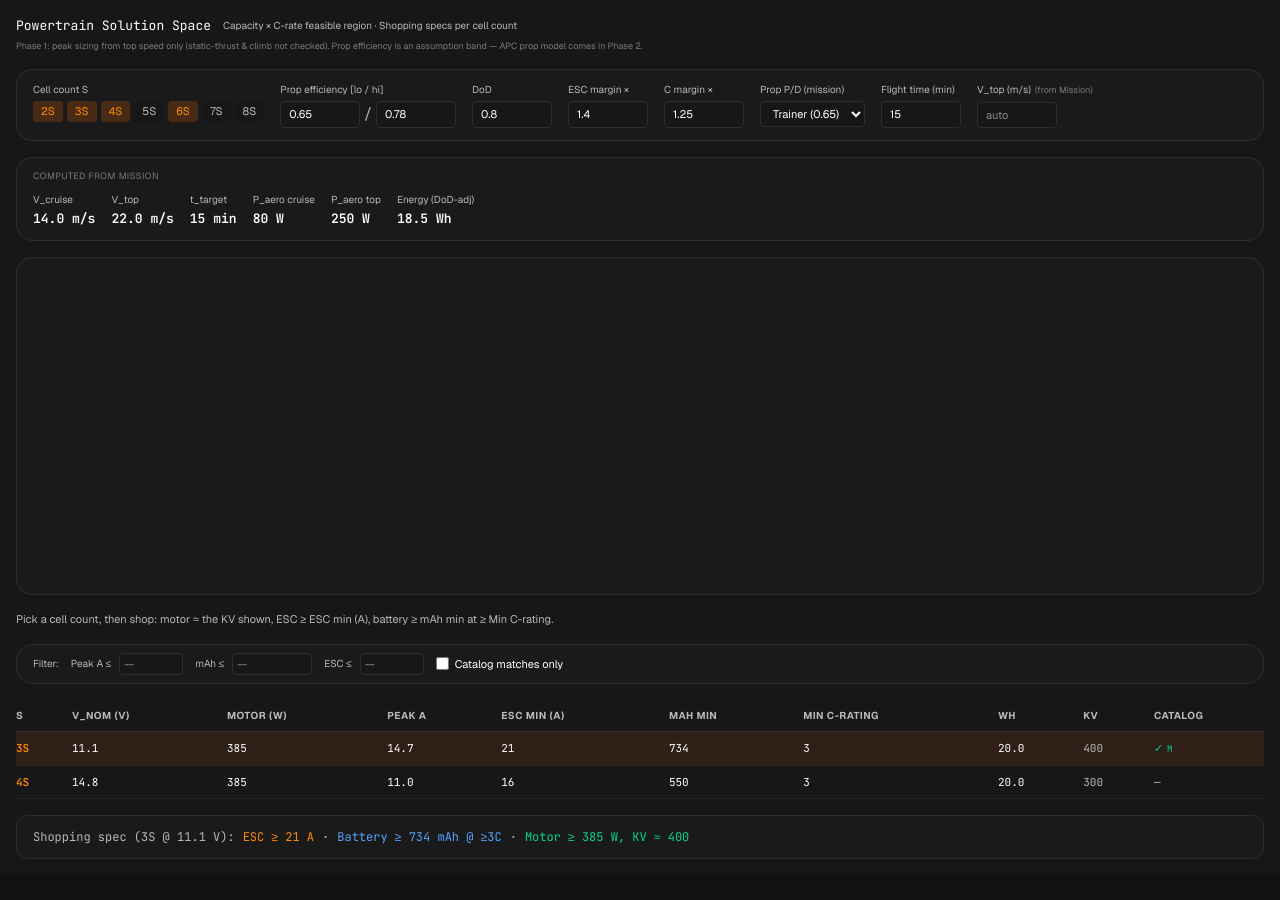
Scenario: PowertrainTab › catalog-only toggle keeps rows with at least one match
Click the checkbox with test id "filter-catalog-only". click: (442, 664)
box: 436,657 -> 449,670
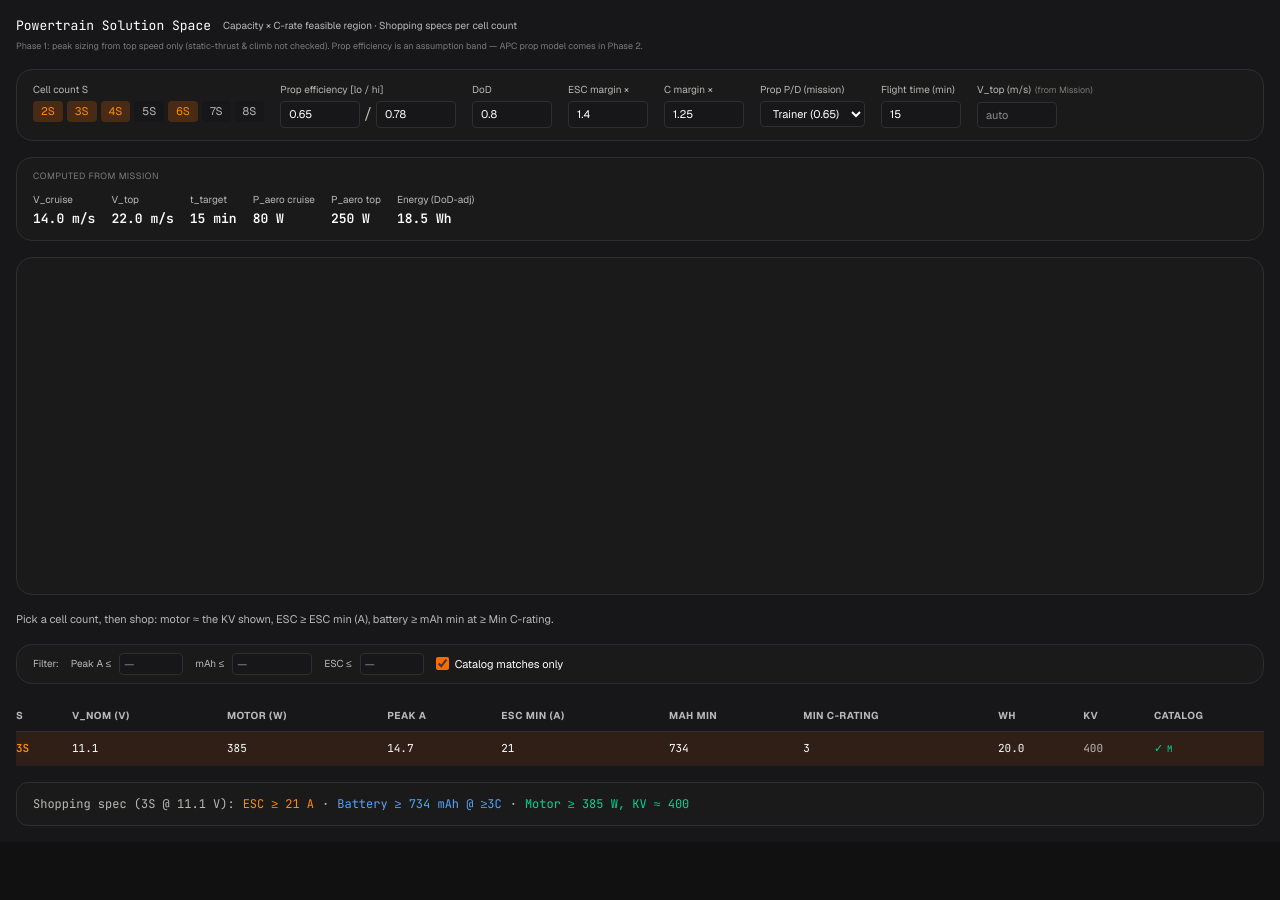
expect the row with test id "solution-row-3" is shown: met, box 16,732 -> 1264,765
expect the row with test id "solution-row-4" is gone: met
